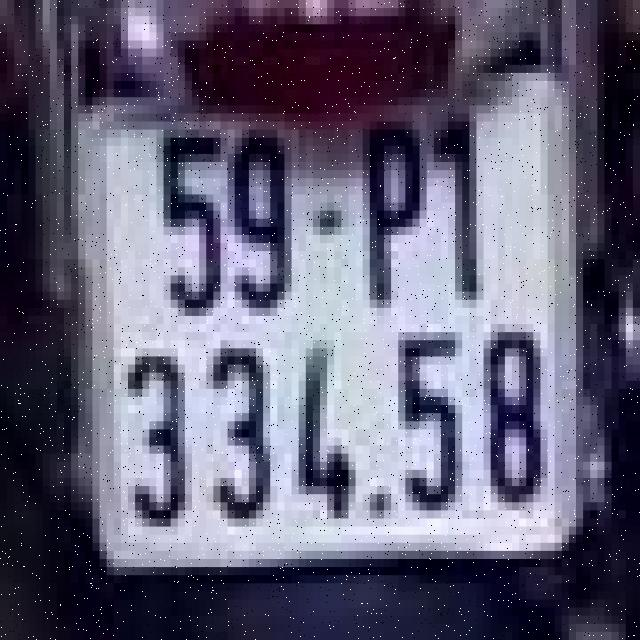1: (430, 93, 494, 304)
3: (203, 332, 281, 535), (121, 344, 199, 531)
4: (288, 320, 366, 531)
5: (391, 308, 477, 518), (156, 122, 228, 324)
8: (487, 300, 558, 518)
9: (227, 117, 313, 312)
P: (352, 101, 437, 312)
